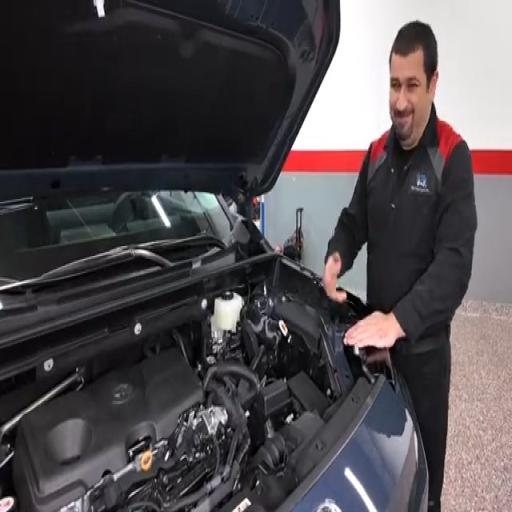bumper: (293, 383, 427, 511)
emblem: (113, 383, 132, 403), (316, 500, 341, 511)
hood: (0, 0, 339, 199)
windshield: (0, 191, 231, 283)
